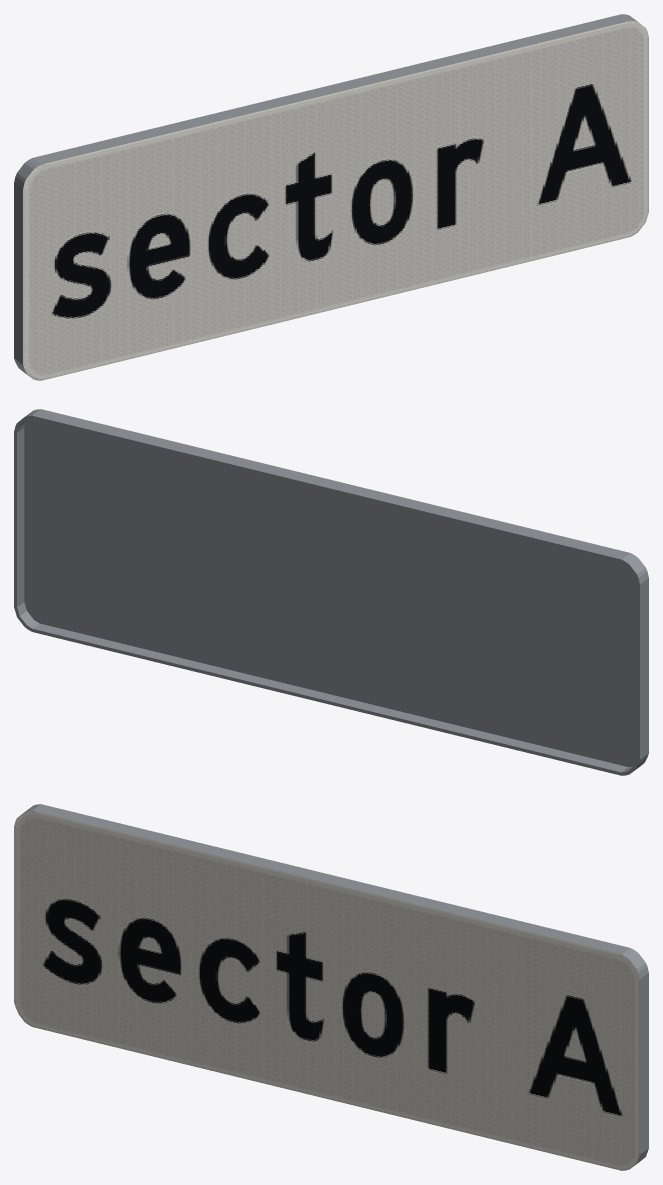
3 renders of one model, top to bottom at view 1: azimuth 30°, elevation 25°; view 2: azimuth 150°, elevation 25°; view 3: azimuth 330°, elevation 25°, orthographic.
Visible parts, largest first — view 1: cat_bedd80e8f2bf0ce5; view 2: cat_bedd80e8f2bf0ce5; view 3: cat_bedd80e8f2bf0ce5.
Part boxes in pixels (x1,y1,x2,y2): cat_bedd80e8f2bf0ce5: [14, 14, 648, 380]; cat_bedd80e8f2bf0ce5: [14, 409, 648, 775]; cat_bedd80e8f2bf0ce5: [14, 804, 648, 1170].
Bounding box in the file's own units: 0.6 × 0.015 × 0.1981.
Materials: 2 (1 with a texture image).
